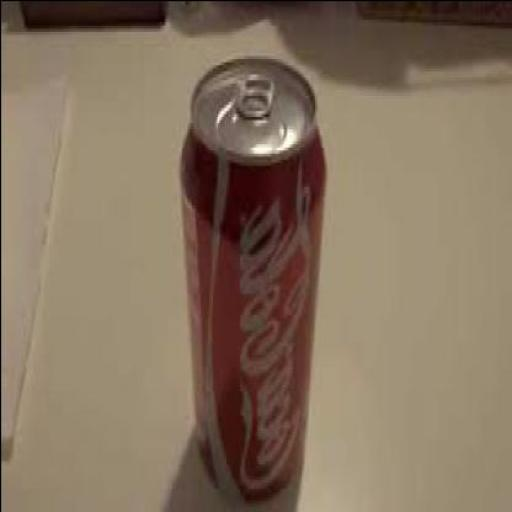metal: (179, 52, 328, 497)
